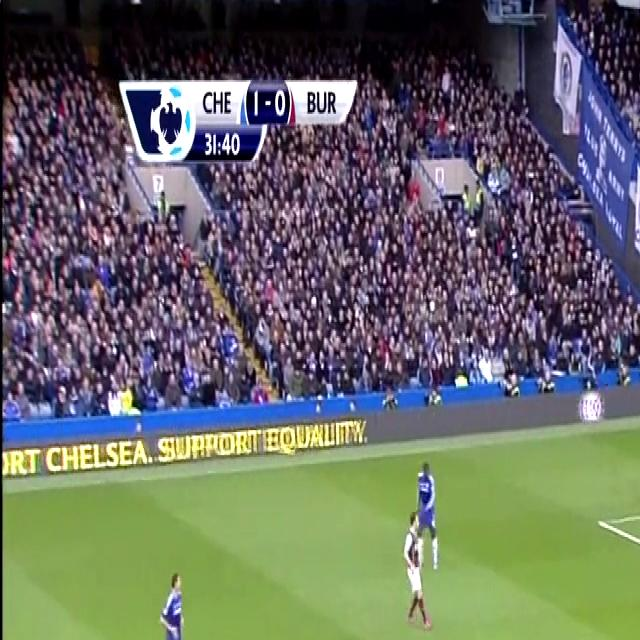soccer-player: (397, 505, 437, 634), (409, 450, 441, 580), (150, 556, 190, 640)
